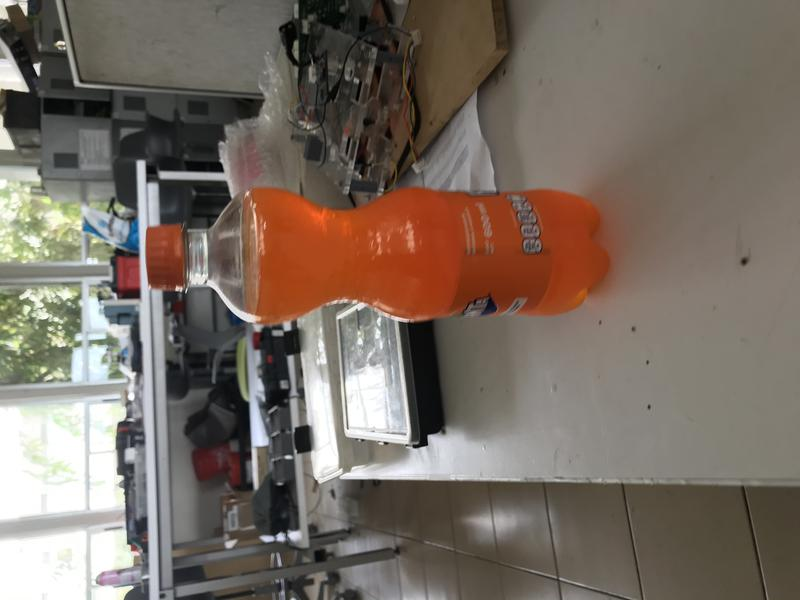fanta: (146, 187, 611, 328)
